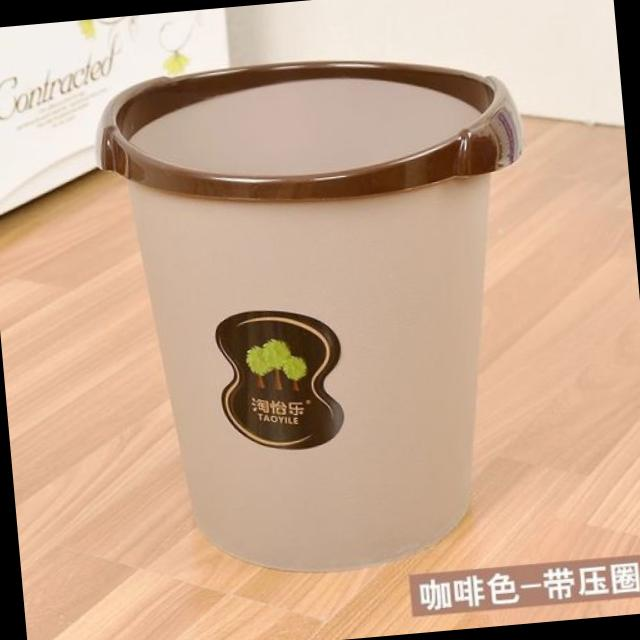dustbin: (92, 32, 568, 594)
